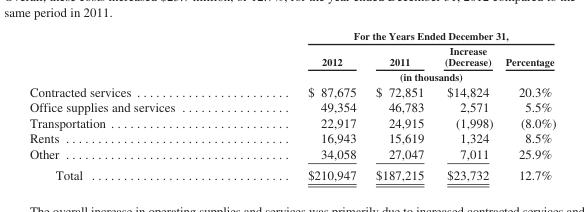table: (28, 29, 555, 181)
table column: (28, 29, 240, 181), (240, 29, 365, 181), (365, 29, 433, 181), (433, 29, 498, 181), (498, 29, 555, 181)
table column header: (28, 29, 555, 83)
table row: (28, 43, 555, 68), (28, 145, 555, 163), (28, 163, 555, 181), (28, 83, 555, 99), (28, 114, 555, 130), (28, 68, 555, 83), (28, 99, 555, 114), (28, 130, 555, 145), (28, 29, 555, 43)
table spanning cell: (240, 68, 555, 83), (240, 29, 555, 43)
